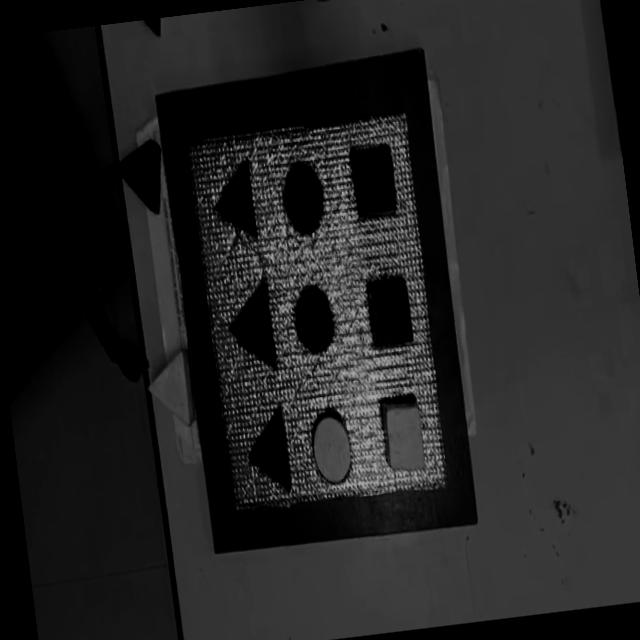bcube: (348, 142, 401, 221)
mtcircle: (278, 159, 328, 239), (290, 282, 338, 358)
mttriangle: (222, 276, 278, 374), (208, 158, 261, 245), (242, 406, 292, 496)
rcube: (365, 270, 417, 348)
rtriangle: (116, 136, 168, 218)
wb: (184, 106, 453, 518)
ycircle: (308, 409, 356, 488)
ycube: (378, 394, 428, 475)
ytriangle: (142, 347, 196, 431)
